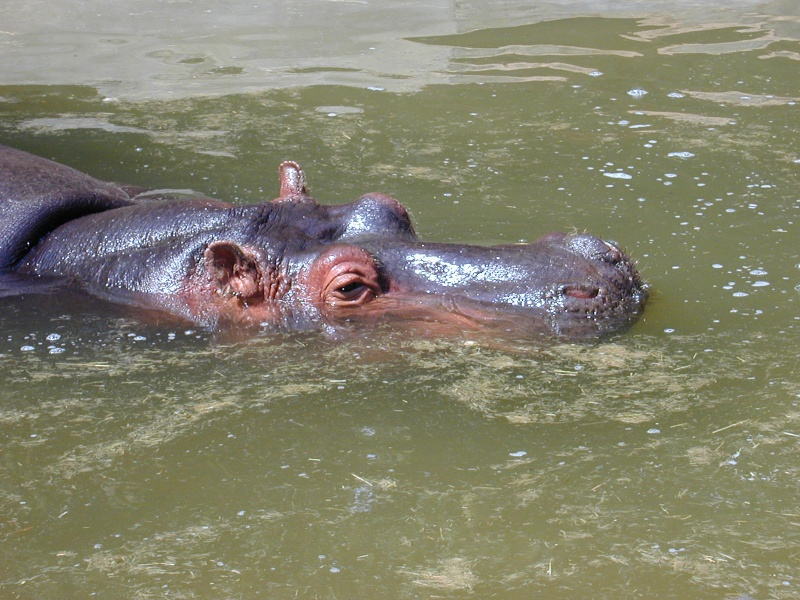hipopotamo: (0, 134, 661, 331)
